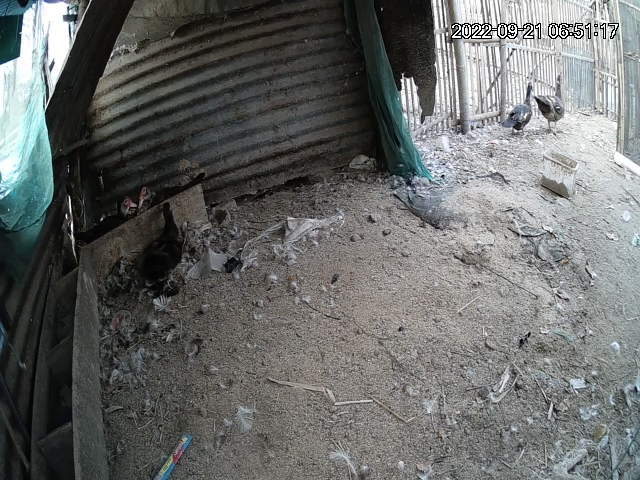Mengeram: (74, 175, 209, 281)
